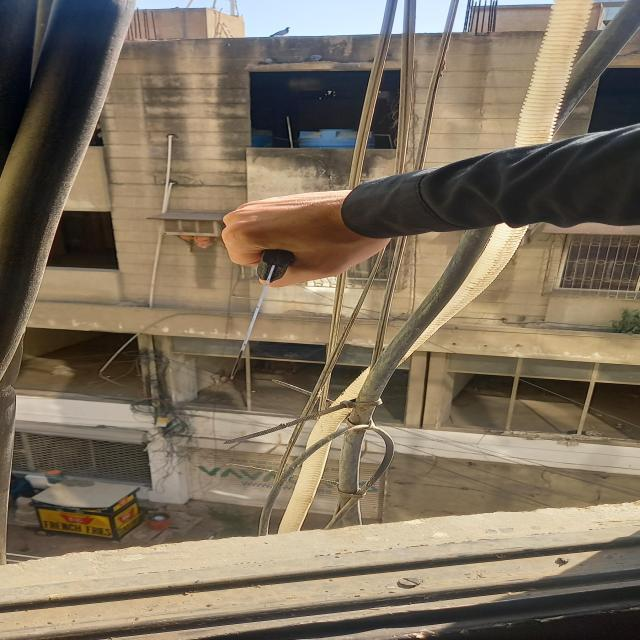faca: (230, 249, 294, 380)
